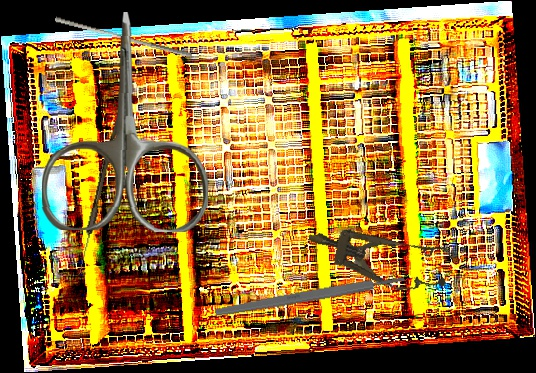Iris Scissors: (41, 10, 211, 233)
Pusher: (53, 16, 194, 58)
Scalpel Handle: (214, 273, 406, 319)
Speculum: (301, 210, 456, 302)
Surgical Spoon: (76, 114, 121, 276)
